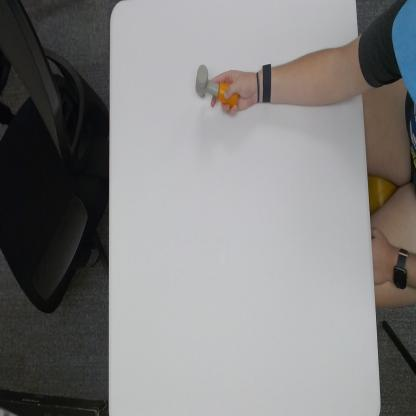Arm: (273, 40, 363, 109)
Hammer: (195, 61, 240, 111)
Hand: (212, 68, 258, 114)
